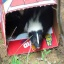skunk: (24, 12, 45, 50)
